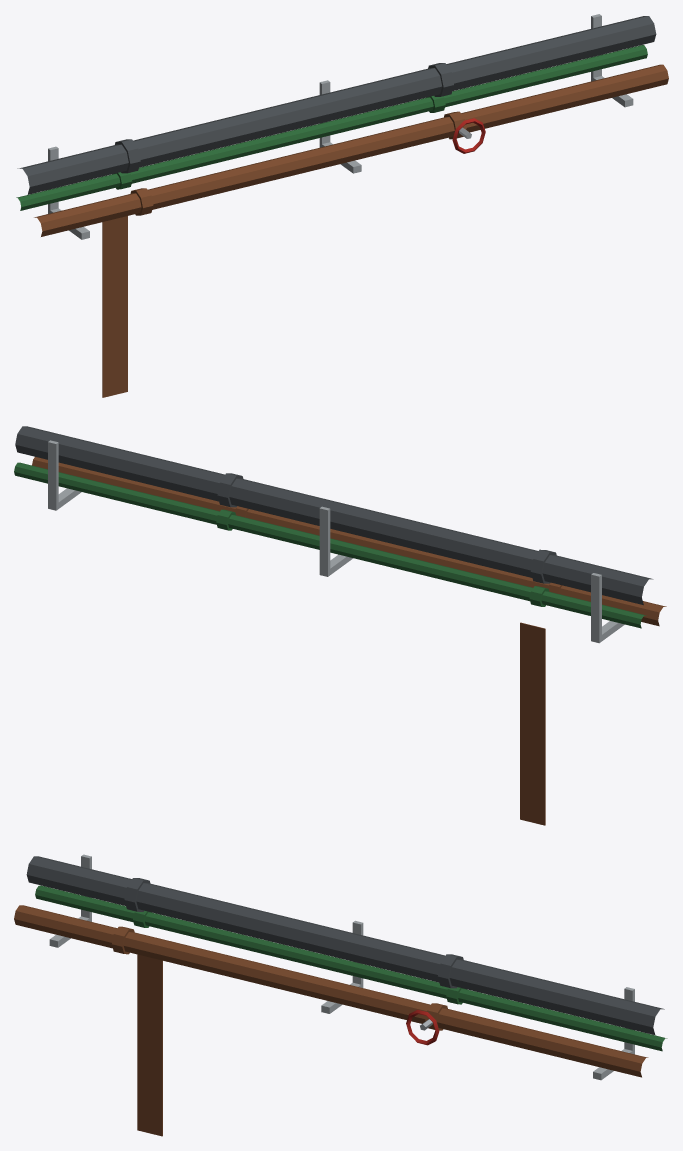
Rendered from pipe_bundle.glb.
3 views of the same model, one above another, from view 1: azimuth 30°, elevation 25°; view 2: azimuth 150°, elevation 25°; view 3: azimuth 330°, elevation 25° (orthographic).
Parts seen in each view (by area): view 1: Pipes; view 2: Pipes; view 3: Pipes.
Boxes of the visible parts, left/top/right/bottom form: Pipes: left=16, top=14, right=668, bottom=397; Pipes: left=14, top=426, right=666, bottom=825; Pipes: left=14, top=854, right=667, bottom=1136.
Bounding box in the file's own units: 3 × 1.2 × 0.35.
